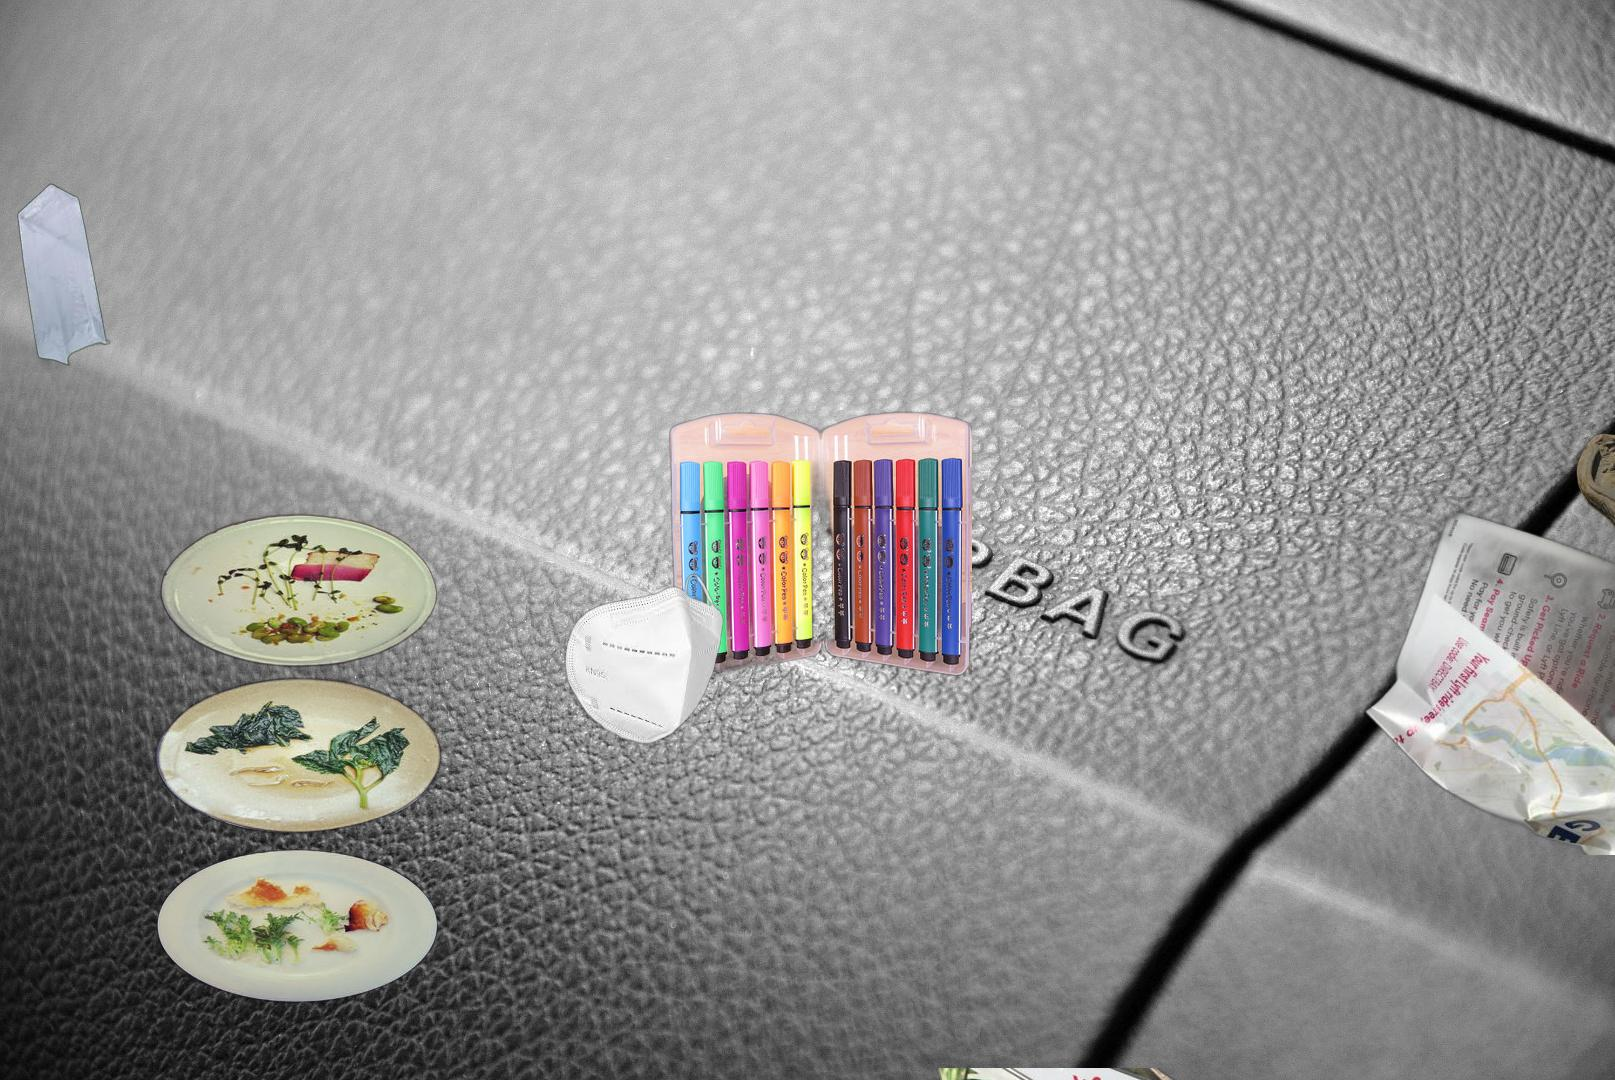biological: (153, 509, 444, 1006)
paper: (1362, 506, 1615, 855), (933, 1068, 1362, 1080)
penholder: (668, 410, 971, 681)
plastic-bag: (16, 181, 225, 372)
shoes: (1574, 394, 1615, 576)
trash: (535, 573, 726, 747)
